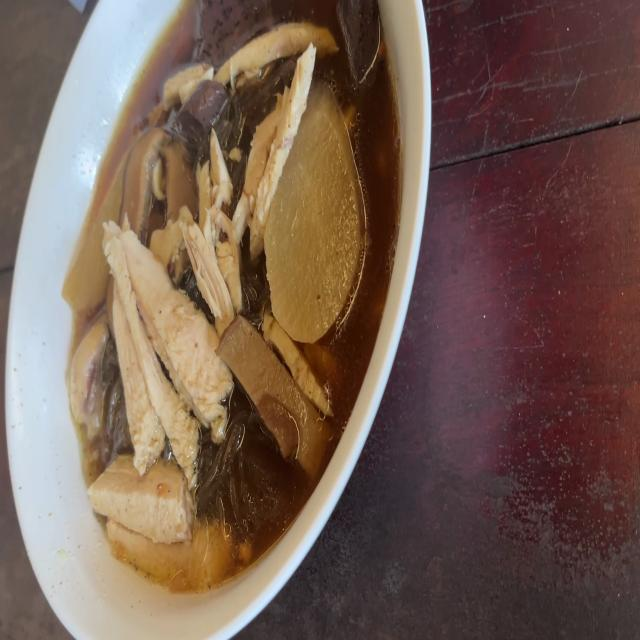boiled_chicken_blood_jelly: (194, 0, 273, 55), (179, 73, 231, 145), (339, 0, 382, 74)
chicken_shredded: (101, 223, 221, 459), (246, 52, 313, 241), (184, 135, 236, 308), (88, 451, 192, 536), (215, 22, 341, 89), (71, 314, 109, 428), (166, 57, 214, 87)
daikon_radish: (266, 84, 364, 334), (64, 160, 122, 311)
noodle: (68, 0, 405, 588)
